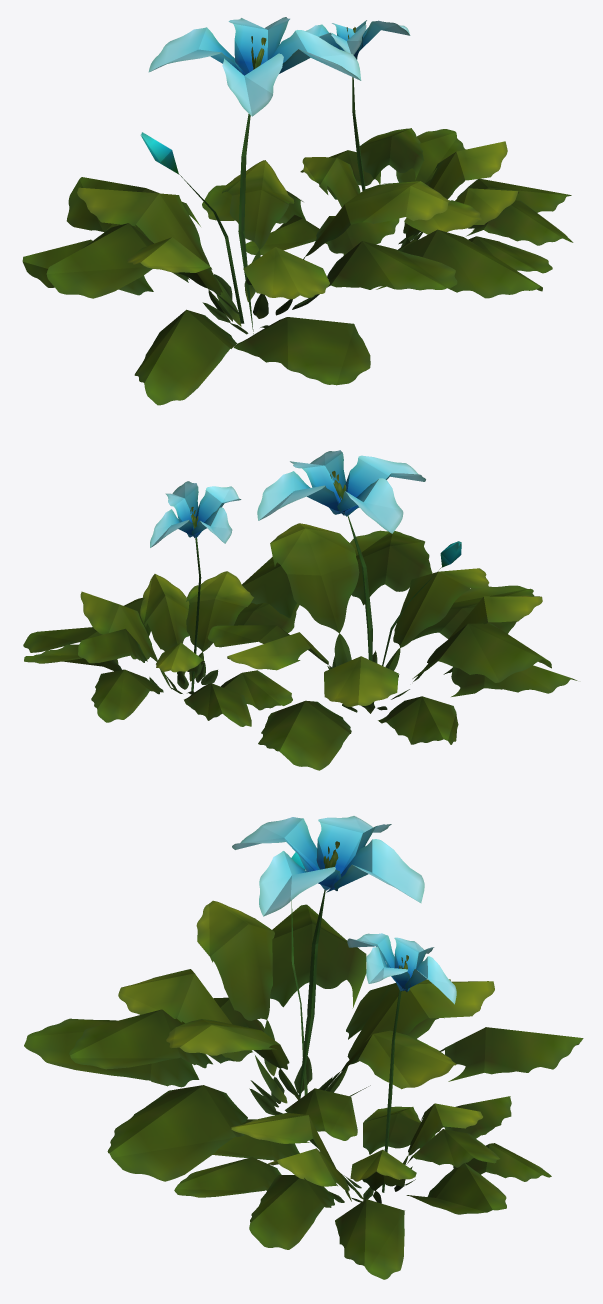
Rendered from cao01_zw.FBX.
3 views of the same model, one above another, from view 1: azimuth 30°, elevation 25°; view 2: azimuth 150°, elevation 25°; view 3: azimuth 270°, elevation 25° (orthographic). The views are drawn at different scales.
Parts seen in each view (by area): view 1: cao01_zw_B; view 2: cao01_zw_B; view 3: cao01_zw_B.
Boxes of the visible parts, x1,y1,x2,y2 form: cao01_zw_B: (22, 17, 573, 405); cao01_zw_B: (23, 450, 577, 770); cao01_zw_B: (24, 816, 583, 1279).
Size of the model in its own units: 137 by 68.02 by 114.
